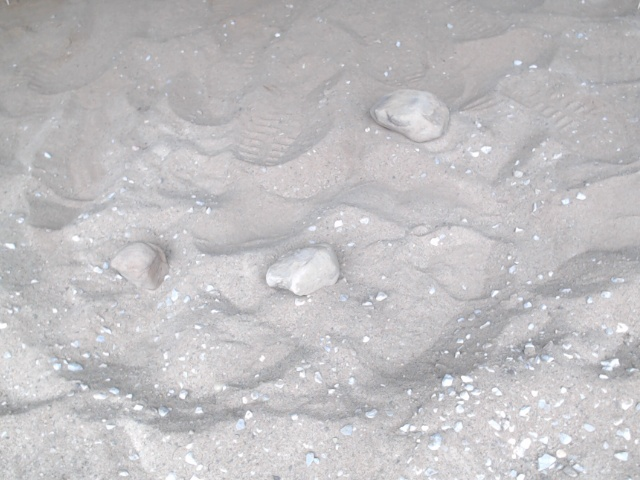rock: (364, 85, 454, 147), (261, 235, 346, 299), (106, 237, 171, 296)
